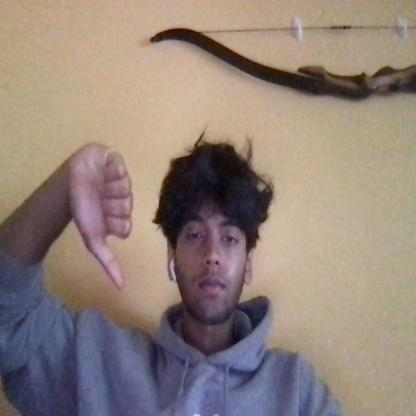Thumbs-Down: (46, 113, 142, 309)
